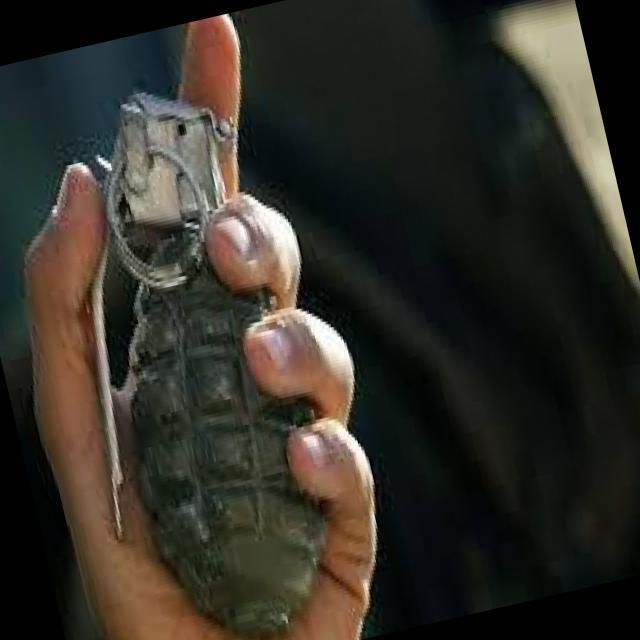grenade: (20, 65, 362, 640)
